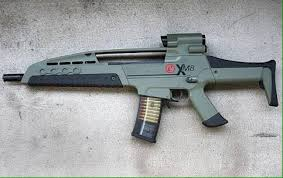Arma Real: (4, 32, 280, 144)
